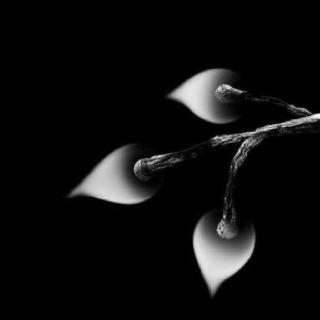Fire: (180, 206, 273, 302), (48, 140, 166, 214), (160, 66, 259, 128)
